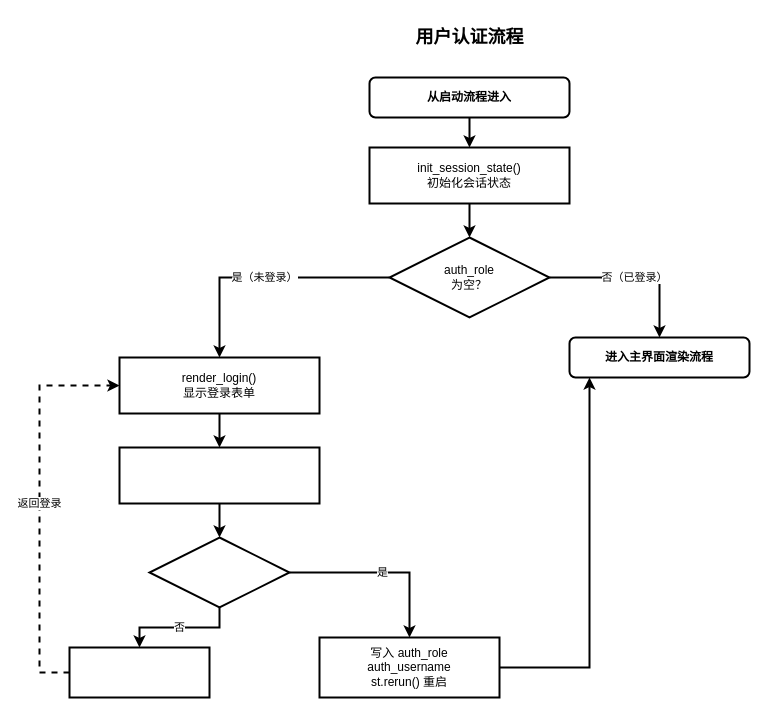
Some shapes in this 767 by 715 pixel diagram are drawn without their labels. Each missing label, with the box of its shape:
st.error 登录失败提示: (68, 646, 210, 698)
verify_login() 验证用户名密码: (118, 446, 320, 504)
验证 通过？: (148, 536, 290, 608)
